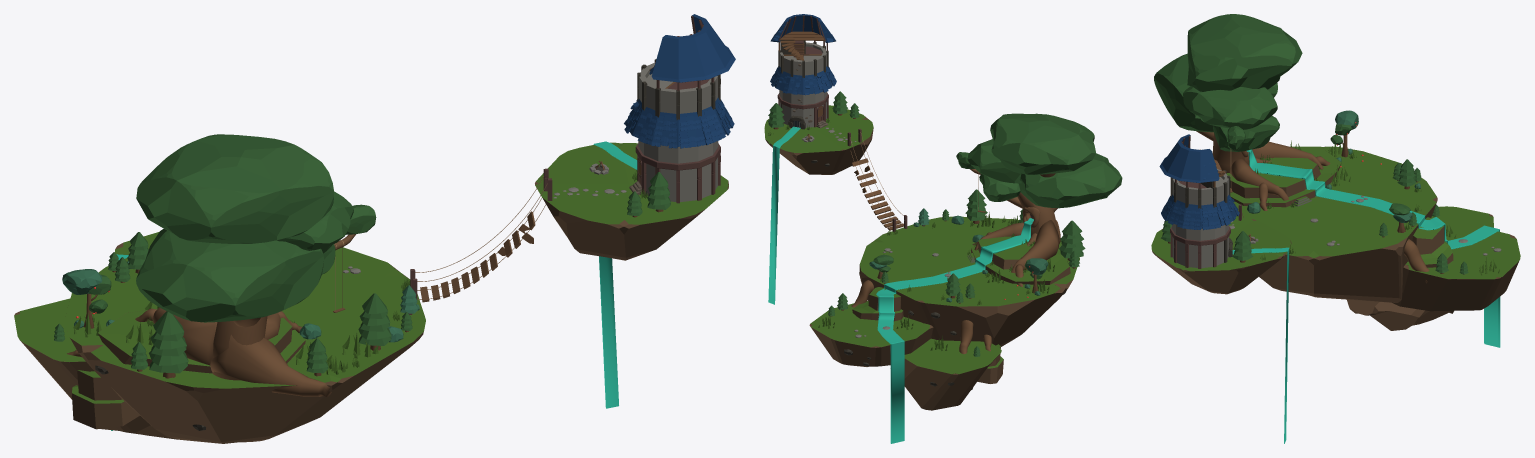
The model's file is island.glb.
The picture shows the model from 3 angles, left to right: view 1: azimuth 30°, elevation 25°; view 2: azimuth 150°, elevation 25°; view 3: azimuth 270°, elevation 25°; orthographic projection. The views are drawn at different scales.
Parts seen in each view (by area): view 1: Cube.256_foliage1.011_0, Cone.201_grass.165_0, Cube_dirt_0, Cube.072_wood1_0, Cone.172_roof_0, Cube.258_stone2.010_0, Cube.037_water_0, Cube.011_wood2.001_0, Cube.034_foliage2_0, Cube.071_stone_0; view 2: Cone.201_grass.165_0, Cube.256_foliage1.011_0, Cube_dirt_0, Cube.037_water_0, Cube.072_wood1_0, Cone.172_roof_0, Cube.258_stone2.010_0, Cube.011_wood2.001_0, Cube.071_stone_0, Cube.034_foliage2_0; view 3: Cone.201_grass.165_0, Cube.256_foliage1.011_0, Cube_dirt_0, Cube.037_water_0, Cone.172_roof_0, Cube.072_wood1_0, Cube.258_stone2.010_0, Cube.011_wood2.001_0, Cube.071_stone_0, Cube.034_foliage2_0.
Part boxes in pixels (left/top/right/bottom): Cube.256_foliage1.011_0: left=54, top=134, right=670, bottom=373; Cone.201_grass.165_0: left=14, top=142, right=728, bottom=403; Cube_dirt_0: left=14, top=181, right=728, bottom=443; Cube.072_wood1_0: left=67, top=62, right=675, bottom=396; Cone.172_roof_0: left=624, top=14, right=735, bottom=148; Cube.258_stone2.010_0: left=343, top=62, right=718, bottom=273; Cube.037_water_0: left=111, top=141, right=637, bottom=430; Cube.011_wood2.001_0: left=408, top=15, right=720, bottom=314; Cube.034_foliage2_0: left=62, top=261, right=419, bottom=342; Cube.071_stone_0: left=95, top=59, right=720, bottom=430; Cone.201_grass.165_0: left=764, top=105, right=1079, bottom=374; Cube.256_foliage1.011_0: left=767, top=91, right=1122, bottom=356; Cube_dirt_0: left=766, top=116, right=1072, bottom=410; Cube.037_water_0: left=768, top=126, right=1033, bottom=443; Cube.072_wood1_0: left=773, top=31, right=1075, bottom=353; Cone.172_roof_0: left=770, top=14, right=836, bottom=95; Cube.258_stone2.010_0: left=779, top=42, right=974, bottom=337; Cube.011_wood2.001_0: left=777, top=15, right=925, bottom=231; Cube.071_stone_0: left=778, top=40, right=1066, bottom=389; Cube.034_foliage2_0: left=869, top=208, right=1048, bottom=302; Cone.201_grass.165_0: left=1151, top=140, right=1520, bottom=279; Cube.256_foliage1.011_0: left=1154, top=14, right=1468, bottom=274; Cube_dirt_0: left=1152, top=146, right=1519, bottom=330; Cube.037_water_0: left=1232, top=149, right=1500, bottom=443; Cone.172_roof_0: left=1159, top=134, right=1239, bottom=230; Cube.072_wood1_0: left=1168, top=131, right=1464, bottom=283; Cube.258_stone2.010_0: left=1172, top=169, right=1501, bottom=268; Cube.011_wood2.001_0: left=1170, top=136, right=1241, bottom=268; Cube.071_stone_0: left=1170, top=167, right=1514, bottom=265; Cube.034_foliage2_0: left=1247, top=110, right=1420, bottom=222.
Bounding box in the file's own units: 43.82 × 33.65 × 34.14.
